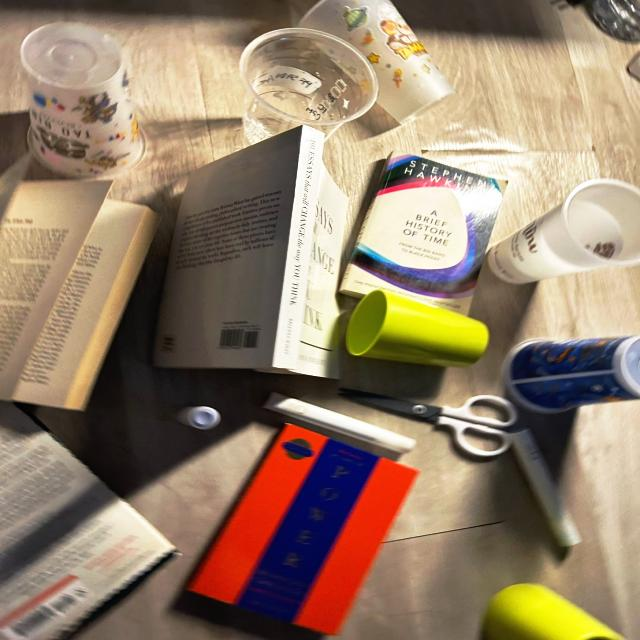Book: (154, 126, 348, 378), (188, 425, 416, 634), (0, 403, 176, 640), (0, 153, 159, 410), (340, 154, 507, 315)
HighLight Pen: (262, 393, 415, 454), (505, 429, 580, 552), (176, 406, 221, 430)
Plastic Cup: (21, 22, 144, 181), (299, 0, 453, 123), (486, 179, 639, 285), (240, 28, 378, 144), (503, 337, 639, 414)
Scissors: (340, 389, 521, 460)
WaterGlass: (345, 289, 489, 367), (482, 584, 624, 640)
